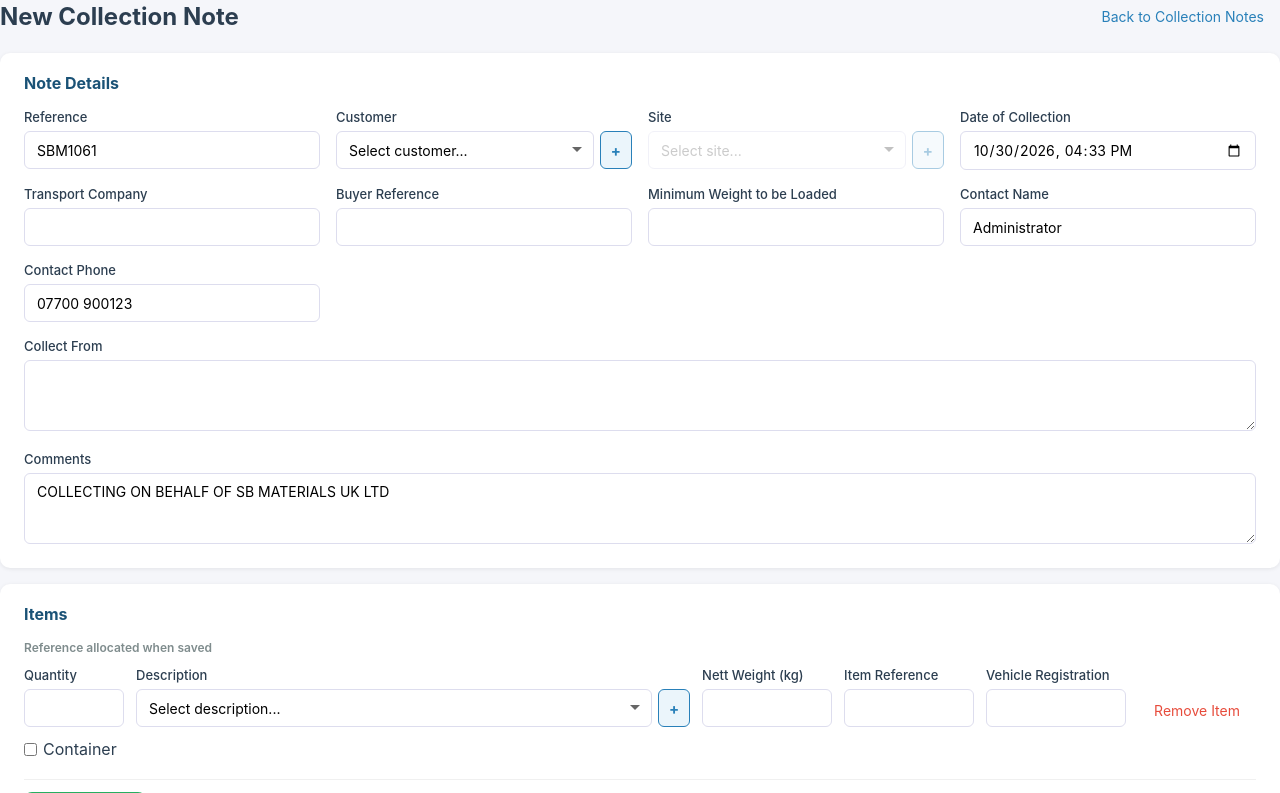
Scenario: CollectionNoteEdit form › adds a product description from the form and selects it into the item
Expected: the field labelled "Reference" is shown, [24, 131, 320, 169]
Click the button named "add product description".
click(674, 708)  # box [658, 689, 690, 727]
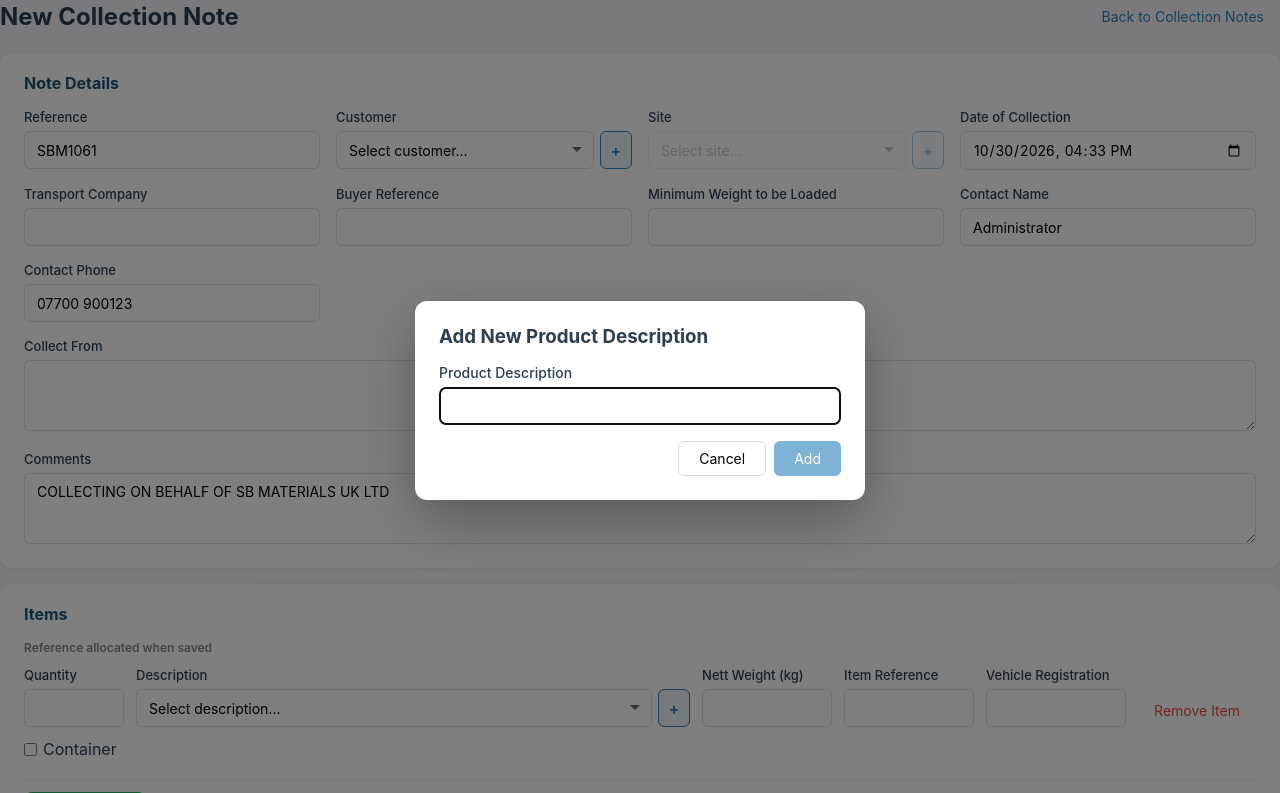
Type "Baled PET" into the field.
click(640, 406); type("Baled PET")  # box [439, 386, 841, 424]
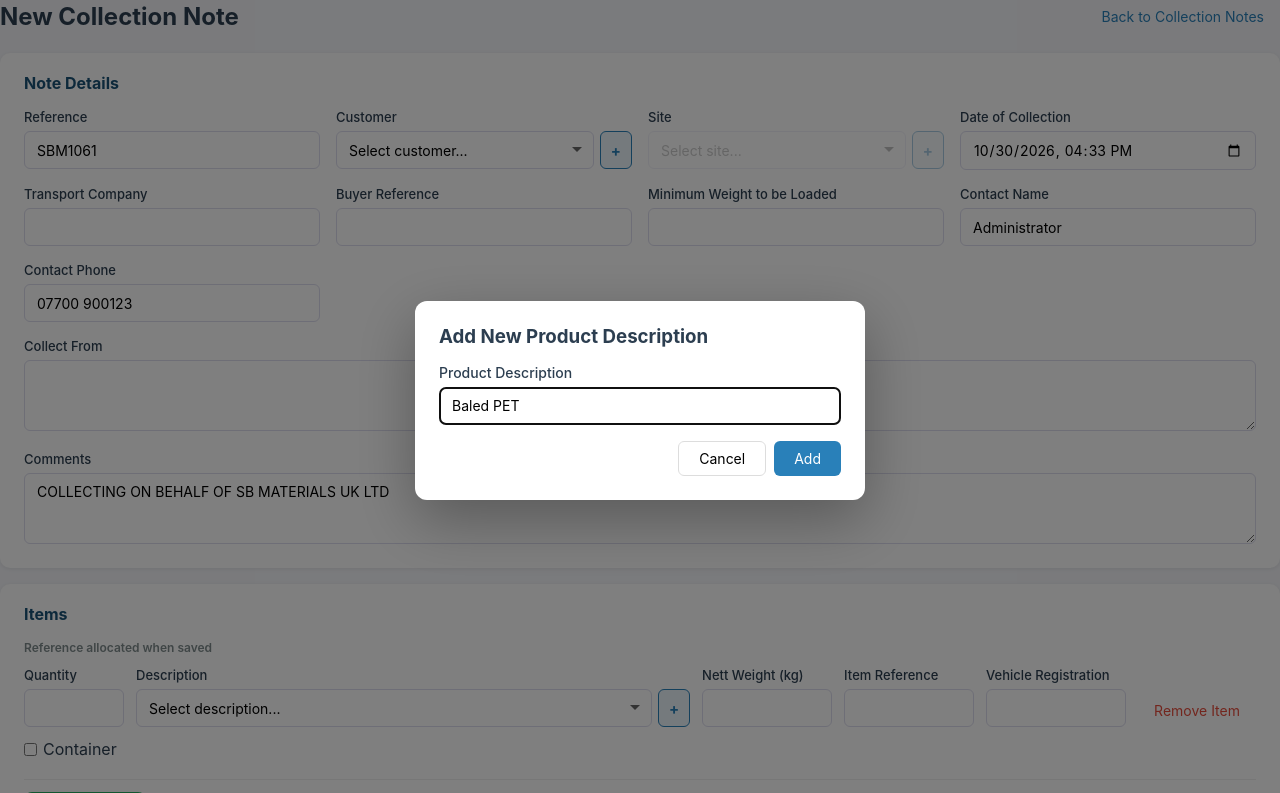
Click the button "Add".
click(808, 458)  # box [774, 440, 841, 476]
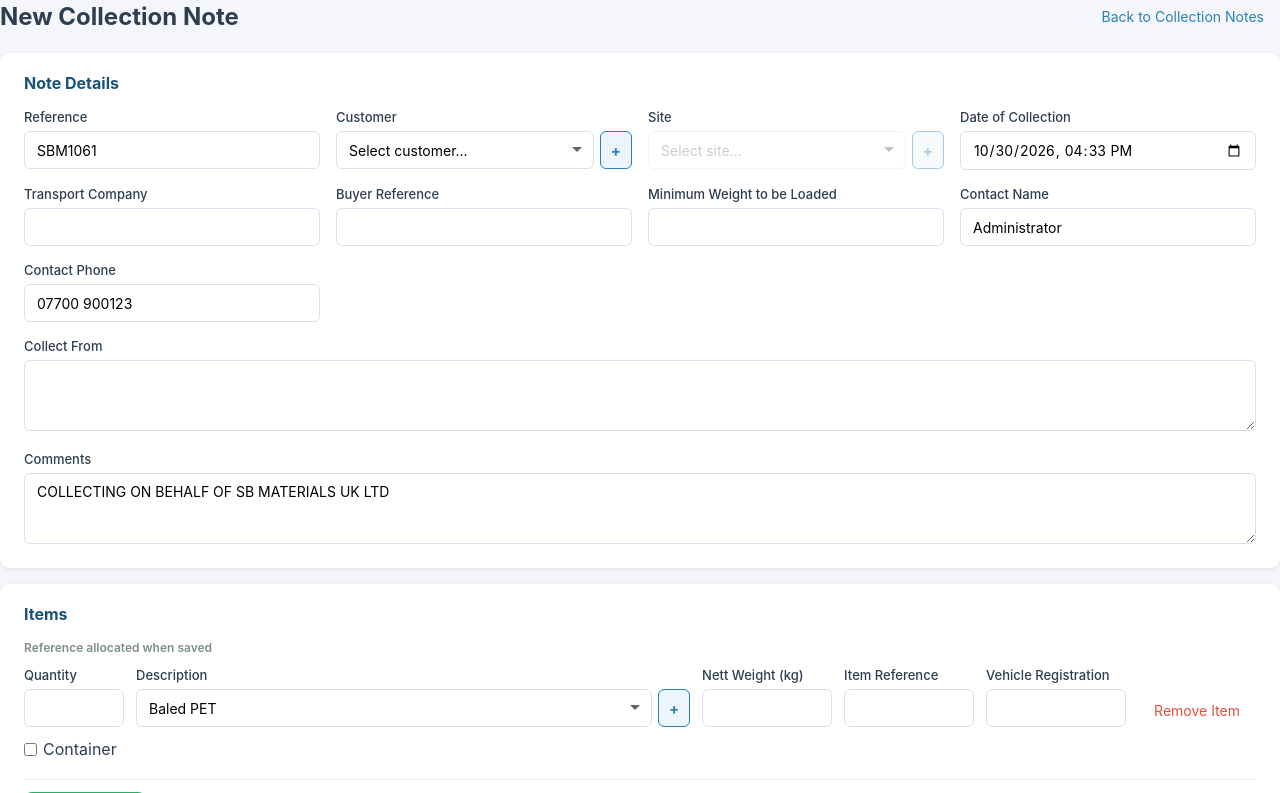
Now the dropdown labelled "Description" shows "Baled PET", box [136, 689, 652, 727]
